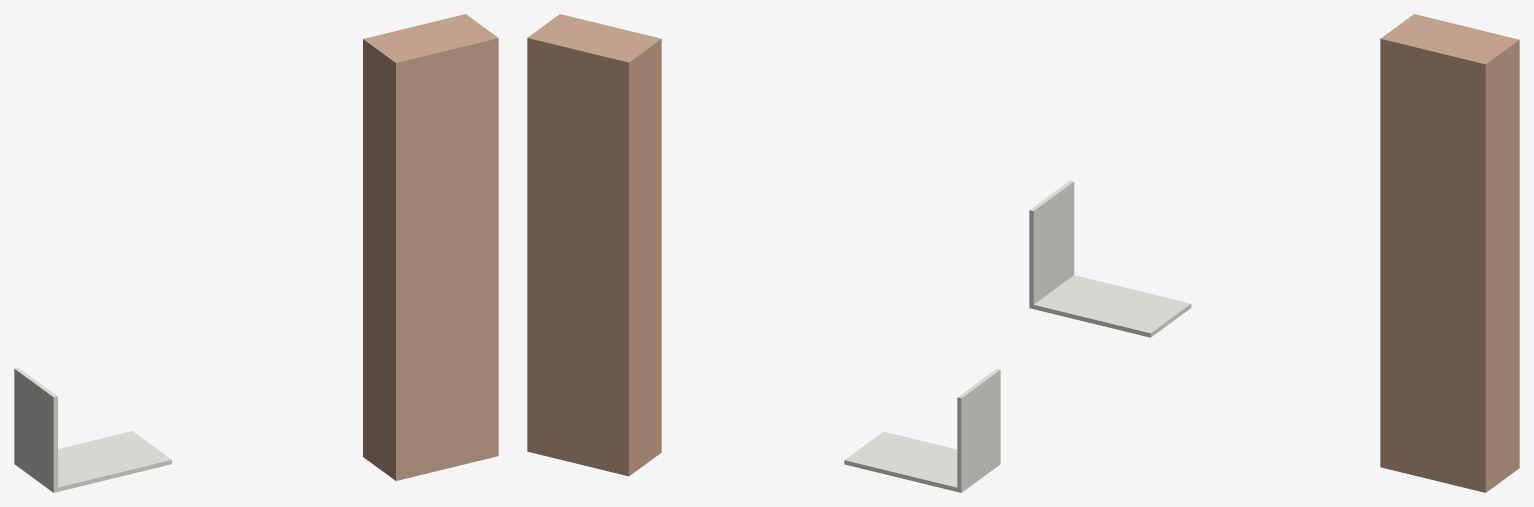
The model's file is 05-aninhados-humano.dae.
3 renders of one model, left to right at view 1: azimuth 30°, elevation 25°; view 2: azimuth 150°, elevation 25°; view 3: azimuth 330°, elevation 25°, orthographic. The views are drawn at different scales.
Visible parts, largest first — view 1: Humano escala, Lateral Nicho, Base Nicho; view 2: Humano escala, Lateral Nicho, Base Nicho; view 3: Humano escala, Base Nicho, Lateral Nicho.
Boxes of the visible parts, left/top/right/bottom form: Humano escala: left=363, top=14, right=498, bottom=480; Lateral Nicho: left=14, top=367, right=57, bottom=492; Base Nicho: left=58, top=431, right=171, bottom=491; Humano escala: left=527, top=14, right=661, bottom=476; Lateral Nicho: left=957, top=369, right=1000, bottom=492; Base Nicho: left=844, top=431, right=957, bottom=491; Humano escala: left=1380, top=14, right=1519, bottom=492; Base Nicho: left=1033, top=275, right=1191, bottom=337; Lateral Nicho: left=1029, top=180, right=1074, bottom=308.
Bounding box in the file's own units: 76.77 × 11.81 × 68.9.
